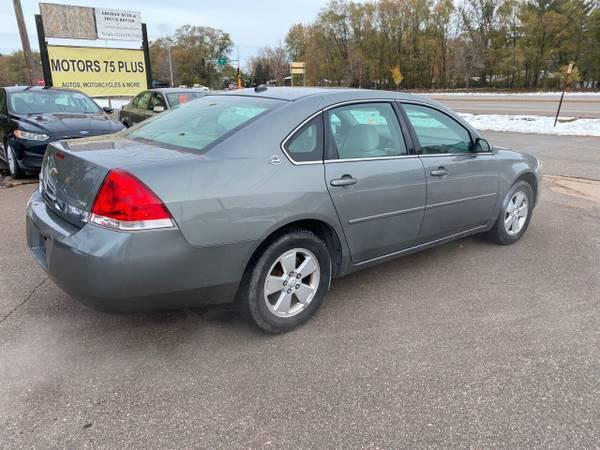Front_Fender: (487, 148, 538, 227)
Front_Right_Door: (418, 152, 500, 247)
Front_Right_Window: (399, 100, 496, 155)
Rear_Bumper: (23, 190, 261, 309)
Rear_Fender: (112, 113, 328, 248)
Rear_Right_Door: (323, 158, 427, 272)
Rear_Right_Window: (321, 102, 418, 162)
Rear_Windshield: (120, 95, 295, 156)
Right_Taillight: (86, 166, 180, 230)
Roof: (205, 84, 493, 153)
Tailgate: (39, 136, 204, 231)
Wheel: (246, 233, 334, 335), (499, 182, 536, 243)
